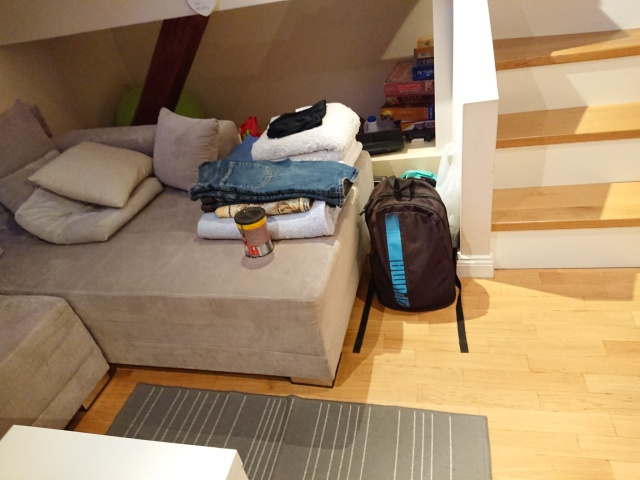Nescafe Classic 225g: (232, 204, 278, 260)
